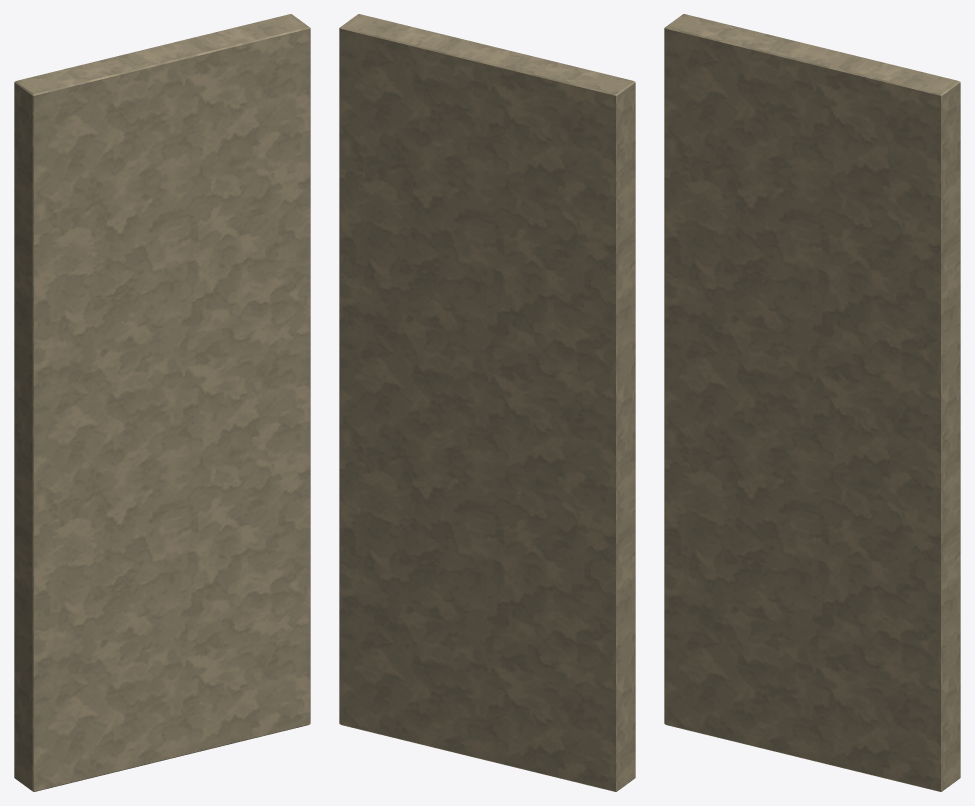
Rendered from WallPanel_Plaster.obj.
3 views of the same model, side by side, from view 1: azimuth 30°, elevation 25°; view 2: azimuth 150°, elevation 25°; view 3: azimuth 330°, elevation 25° (orthographic).
Visible parts, largest first — view 1: WallPanel_PlasterMesh; view 2: WallPanel_PlasterMesh; view 3: WallPanel_PlasterMesh.
Boxes of the visible parts, bbox=[...] form: WallPanel_PlasterMesh: bbox=[14, 14, 310, 791]; WallPanel_PlasterMesh: bbox=[339, 14, 635, 791]; WallPanel_PlasterMesh: bbox=[664, 14, 960, 791].
Bounding box in the file's own units: 1 × 2.4 × 0.12.
1 material, 1 textured.
